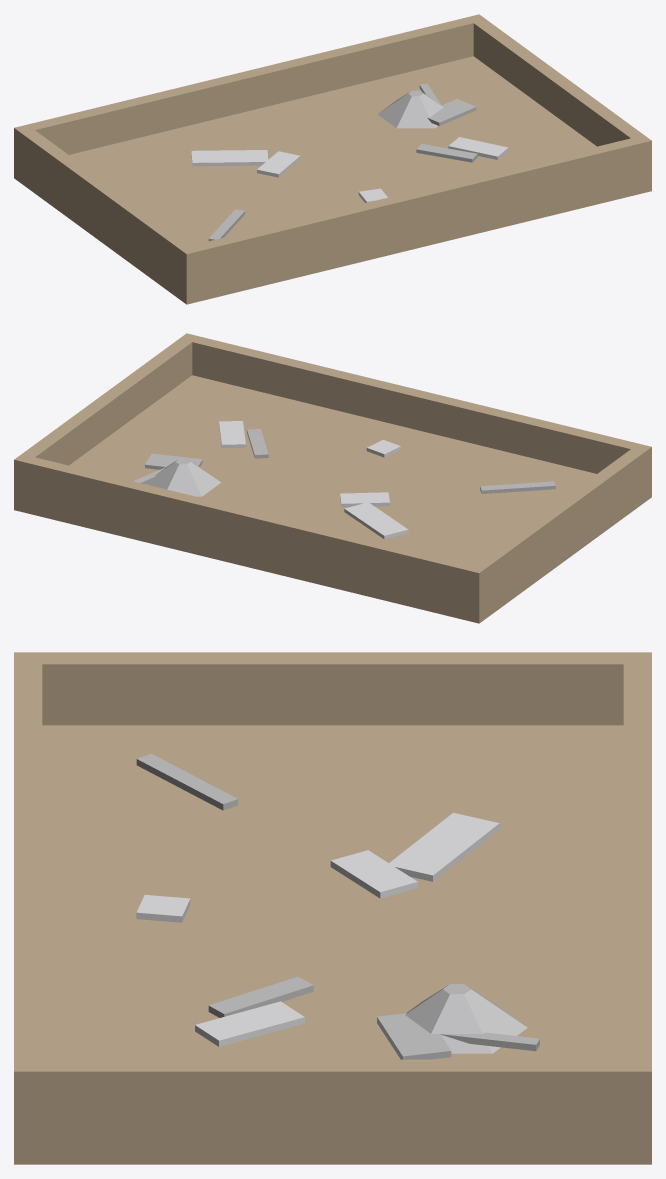
Rendered from prop-scrap-silver-tray.fbx.
The picture shows the model from 3 angles, top to bottom: view 1: azimuth 30°, elevation 25°; view 2: azimuth 150°, elevation 25°; view 3: azimuth 270°, elevation 25°; orthographic projection. The views are drawn at different scales.
Parts seen in each view (by area): view 1: prop-scrap-silver-tray; view 2: prop-scrap-silver-tray; view 3: prop-scrap-silver-tray.
Boxes of the visible parts, <box> form: prop-scrap-silver-tray: <box>14,14,651,304</box>; prop-scrap-silver-tray: <box>14,333,651,623</box>; prop-scrap-silver-tray: <box>14,652,651,1164</box>.
Size of the model in its own units: 28 by 2.9 by 18.
